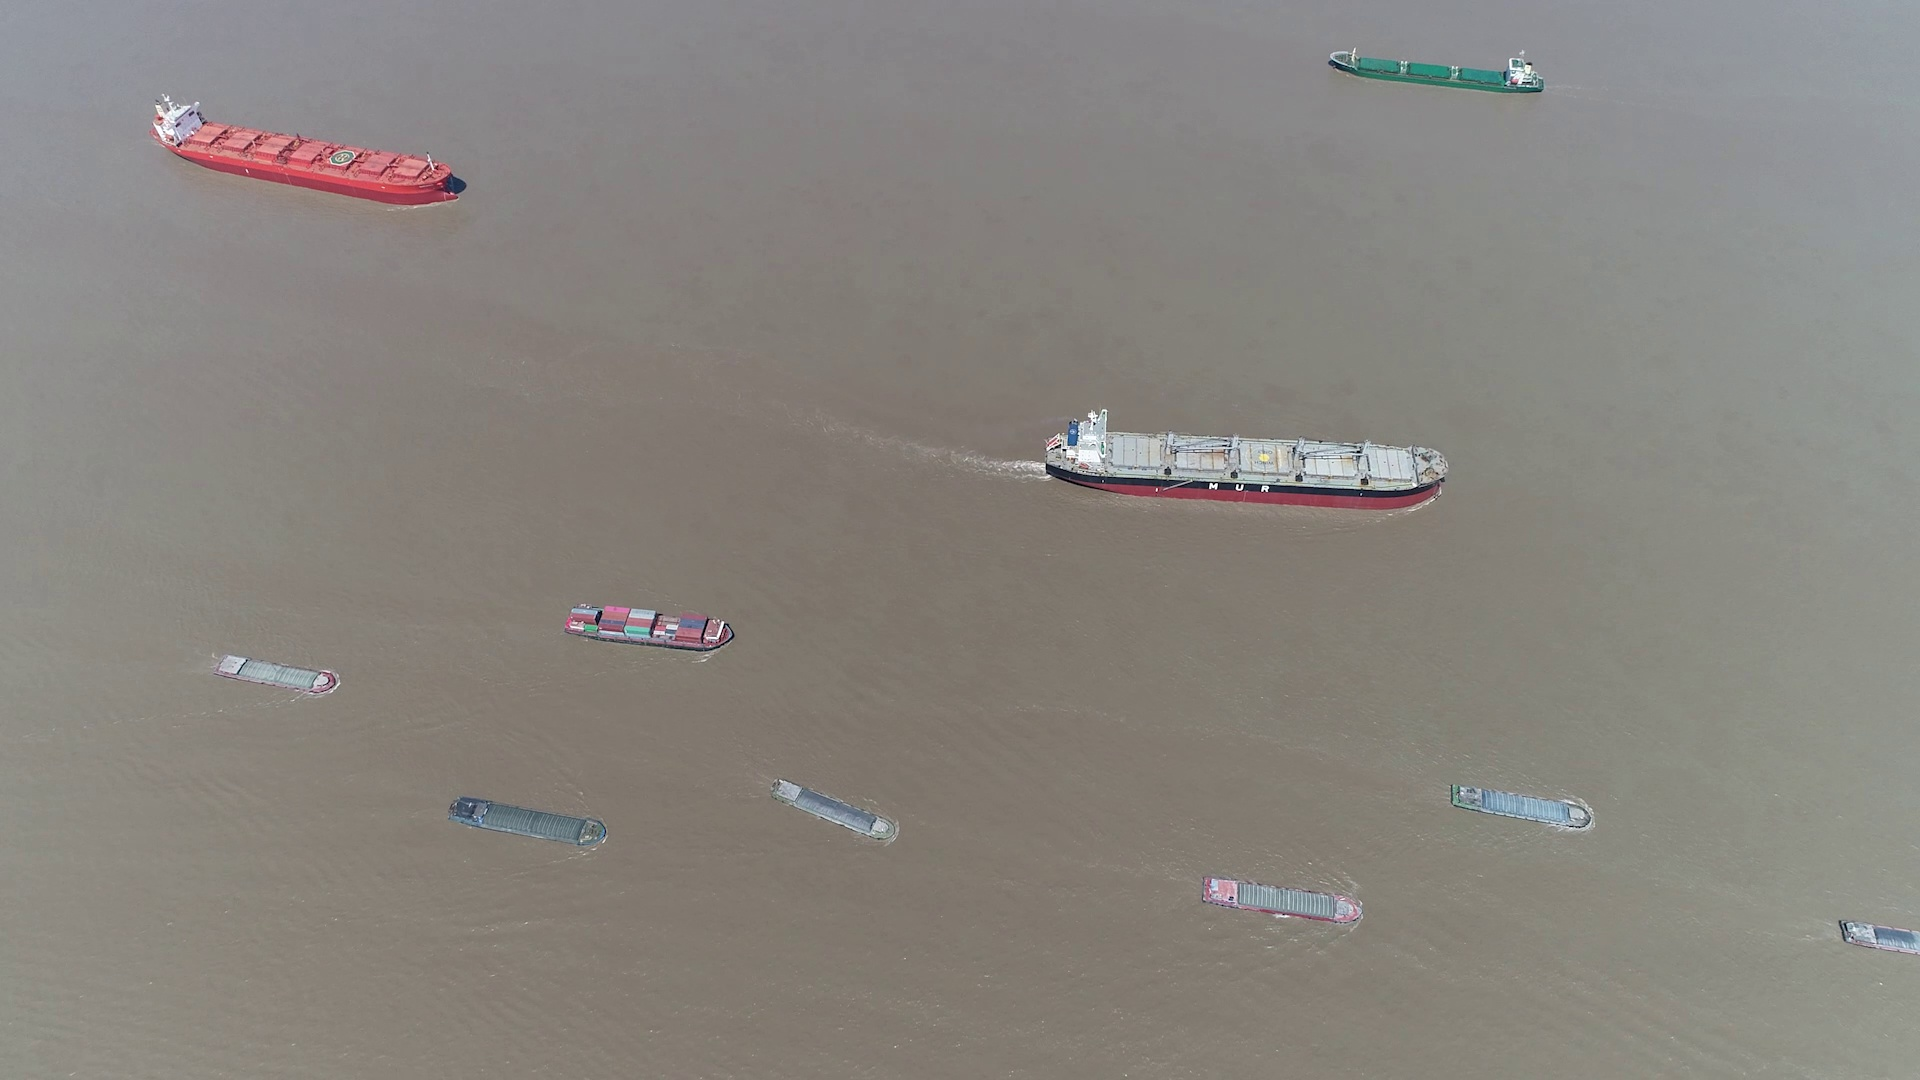ship: (1042, 417, 1449, 510), (152, 98, 458, 207), (1327, 47, 1545, 94), (566, 603, 736, 651), (450, 796, 607, 845), (777, 781, 898, 843), (1203, 877, 1362, 923), (1447, 782, 1592, 829), (214, 653, 339, 694), (1838, 920, 1920, 956)
